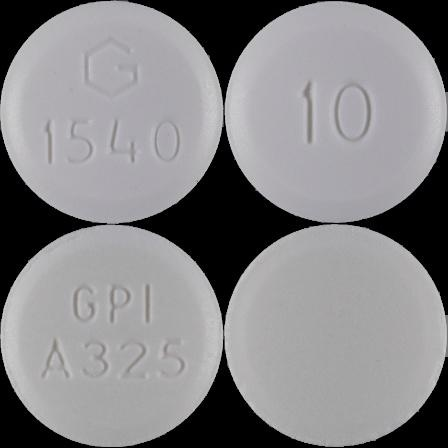67046-020: (0, 0, 224, 224)
